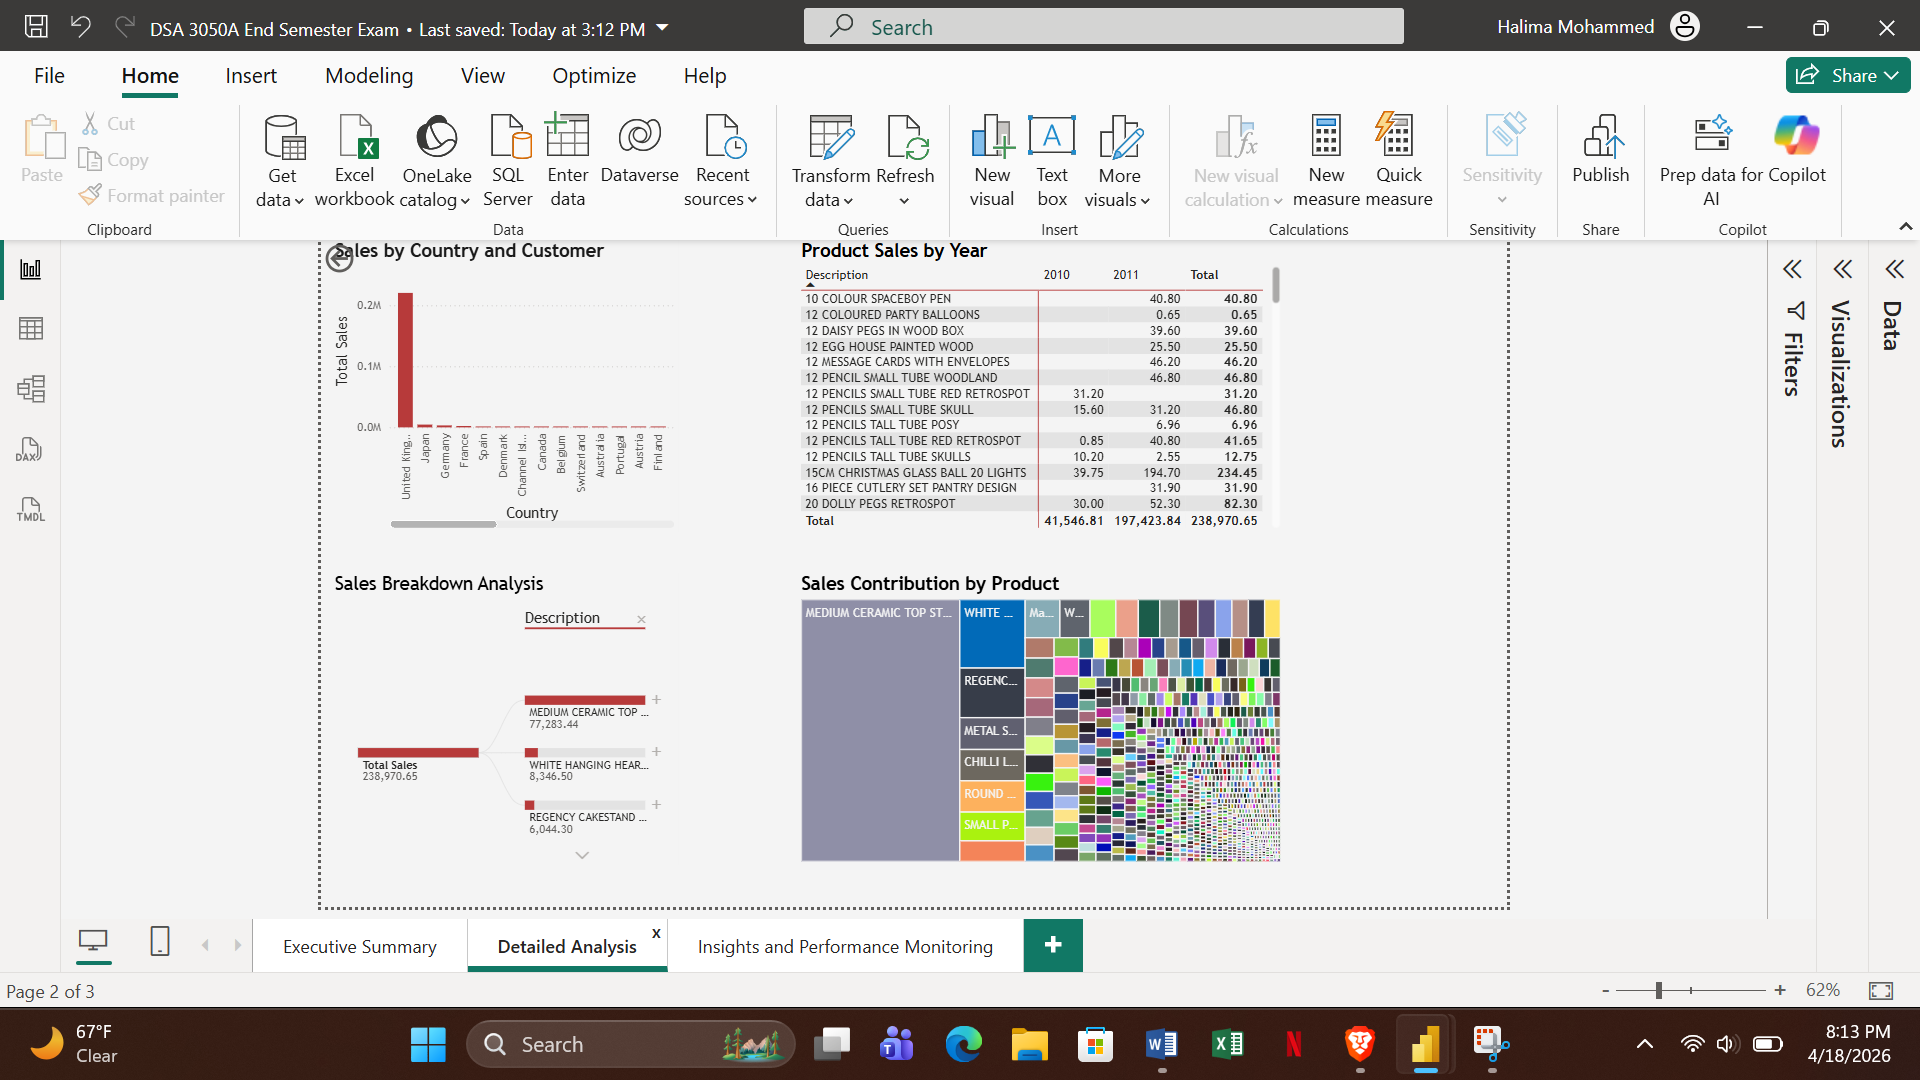

The dashboard page shown, as its layout file describes it:
{"tool":"powerbi","page":{"name":"Detailed Analysis","canvas":[1280,720],"ordinal":1},"visuals":[{"type":"clusteredColumnChart","title":"Sales by Country and Customer","fields":{"Category":["Dim_Customers.Country"],"Y":["Fact_sales.Total Sales"]},"box":[9.4,0,376.1,315.6],"z":0},{"type":"actionButton","box":[0,0,100,40],"z":1},{"type":"pivotTable","title":"Product Sales by Year","fields":{"Rows":["Dim_Products.Description"],"Columns":["Dim_Date.Year"],"Values":["Fact_sales.Total Sales"]},"box":[514,0,527.2,315.6],"z":2},{"type":"decompositionTreeVisual","title":"Sales Breakdown Analysis","fields":{"Analyze":["Fact_sales.Total Sales"],"ExplainBy":["Dim_Products.Description","Dim_Customers.Country","Fact_sales.Sales Category ","Dim_Customers.CustomerID"]},"box":[9.4,359.1,376.1,315.6],"z":3},{"type":"treemap","title":"Sales Contribution by Product","fields":{"Group":["Dim_Products.Description"],"Values":["Fact_sales.Total Sales"]},"box":[514,359,527,316],"z":4}]}

Visuals, with their boxes on the page's 1280x720 design canvas (x1, y1, x2, y2). These are canvas units, not pixel positions in the 1920x1080 screenshot, which may show the page scaled, cropped or inside an application window:
"Sales by Country and Customer" clusteredColumnChart: 9,0,386,316
actionButton: 0,0,100,40
"Product Sales by Year" pivotTable: 514,0,1041,316
"Sales Breakdown Analysis" decompositionTreeVisual: 9,359,386,675
"Sales Contribution by Product" treemap: 514,359,1041,675
